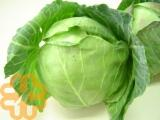cabbage: (35, 12, 128, 109)
